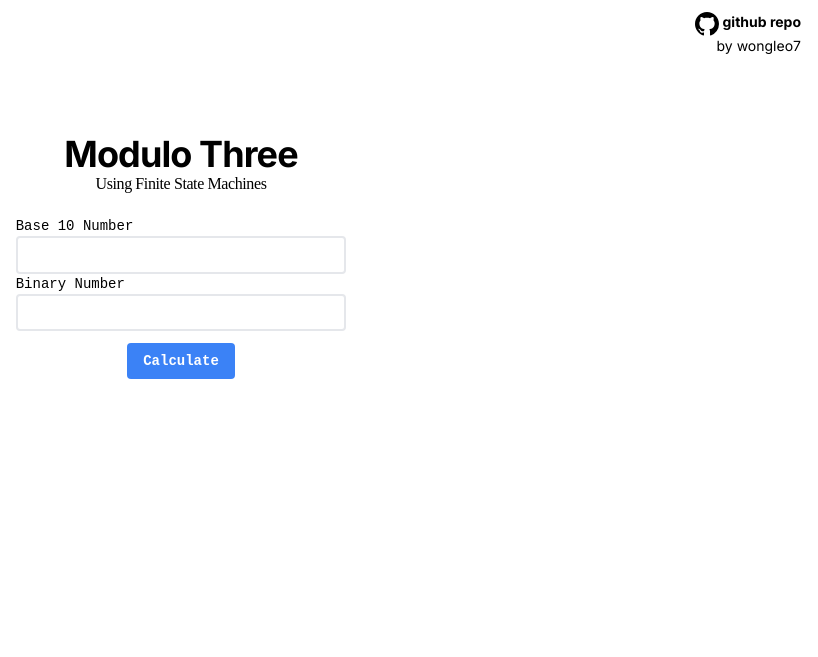
Scenario: tests calculations on decimal
Type "12" into the number field with id "decimal-input" at [182, 255], box [16, 236, 347, 274]
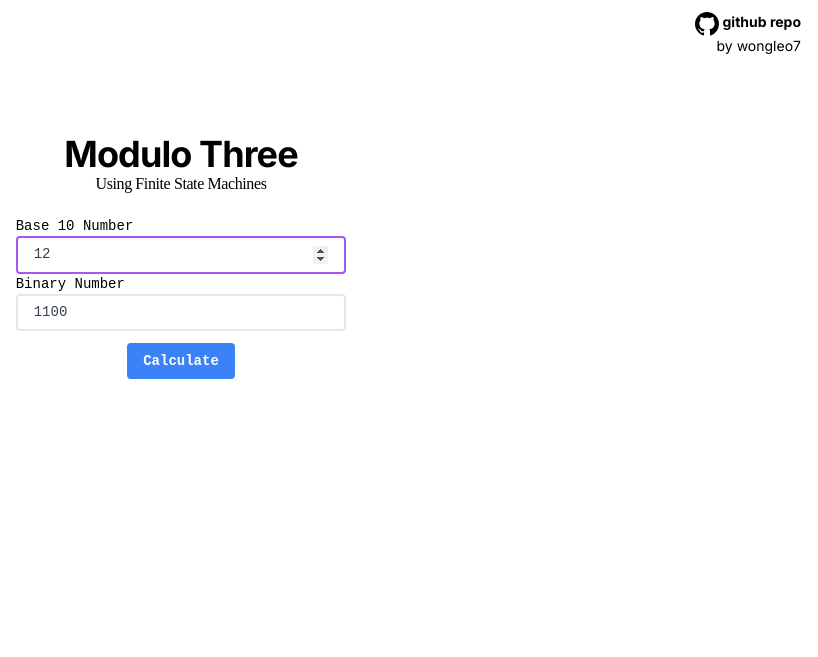
Click the button with id "submit-button" at [181, 361], box [127, 343, 235, 379]
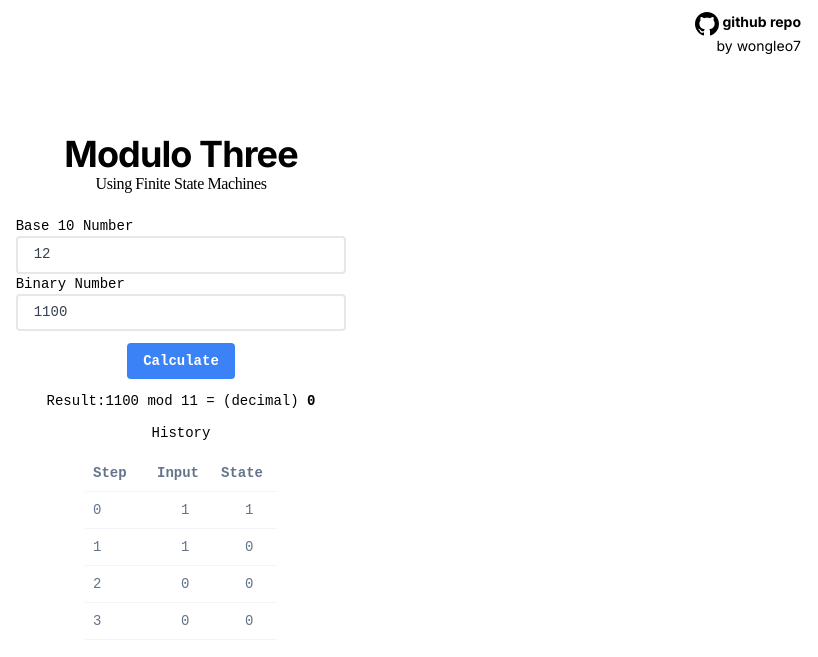
Expected: the text with id "remainder" reads "0", [307, 393, 315, 409]
